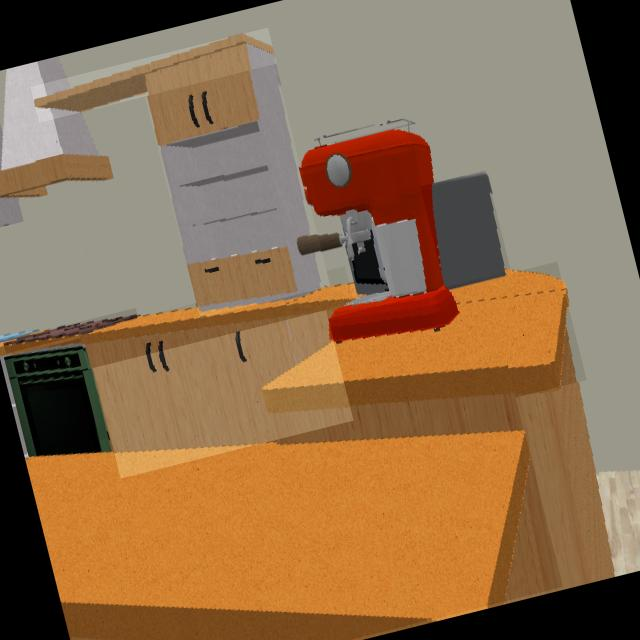cabinet: (146, 43, 321, 307), (90, 314, 329, 451)
countertop: (26, 432, 530, 640), (264, 271, 568, 414), (81, 285, 350, 345)
microwave: (434, 175, 506, 287), (350, 239, 387, 294)
oven: (26, 431, 530, 640), (264, 272, 567, 414), (5, 348, 110, 455)
shelf: (34, 34, 273, 112)
stove: (3, 315, 137, 344)
